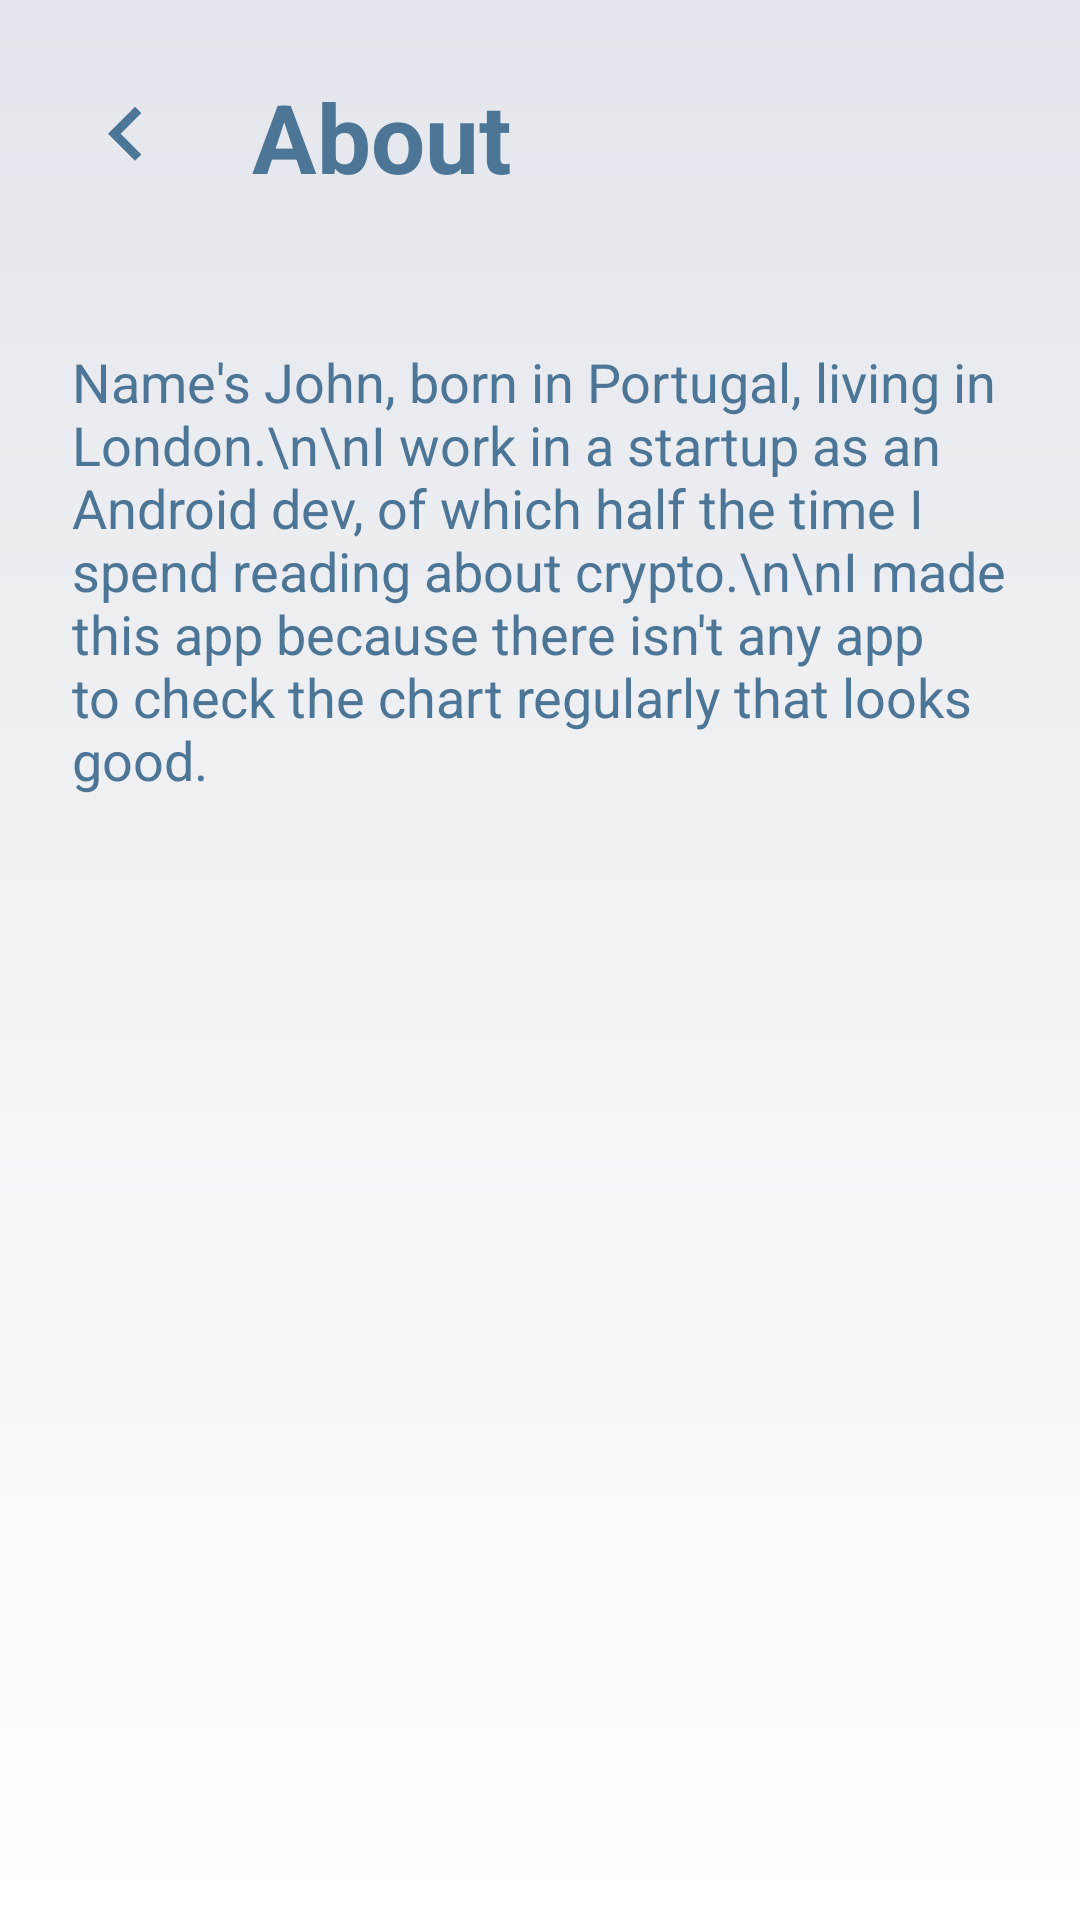

Icons on this 1080px×1920px Android screen, each with its box as (x1, y1, x2, y2):
keyboard arrow left: (108, 107, 141, 161)
